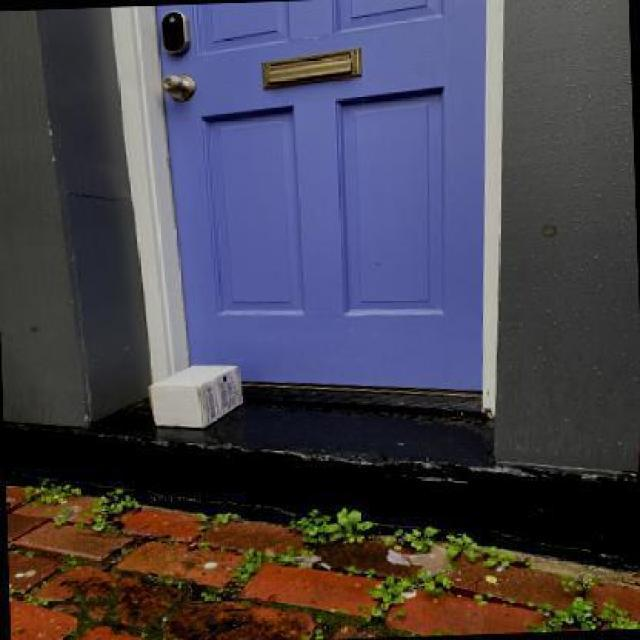box: (153, 364, 250, 428)
